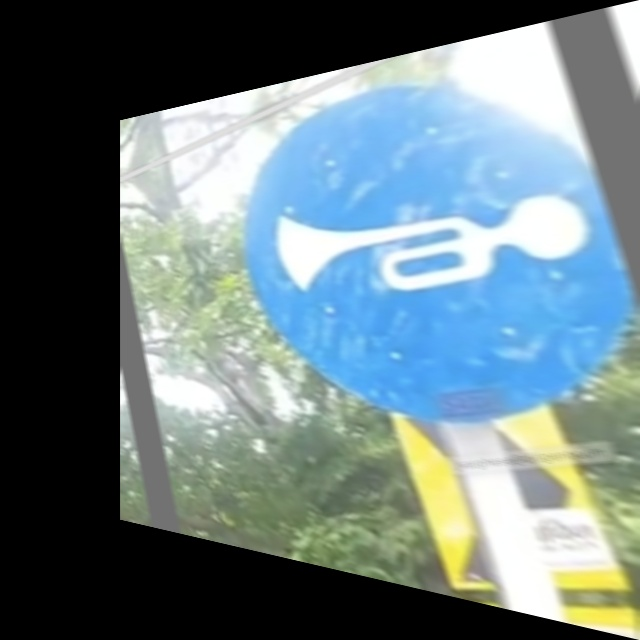Compulsory_Sound_Horn: (236, 35, 635, 435)
